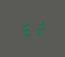three: (19, 21, 31, 37)
two: (32, 20, 44, 35)
